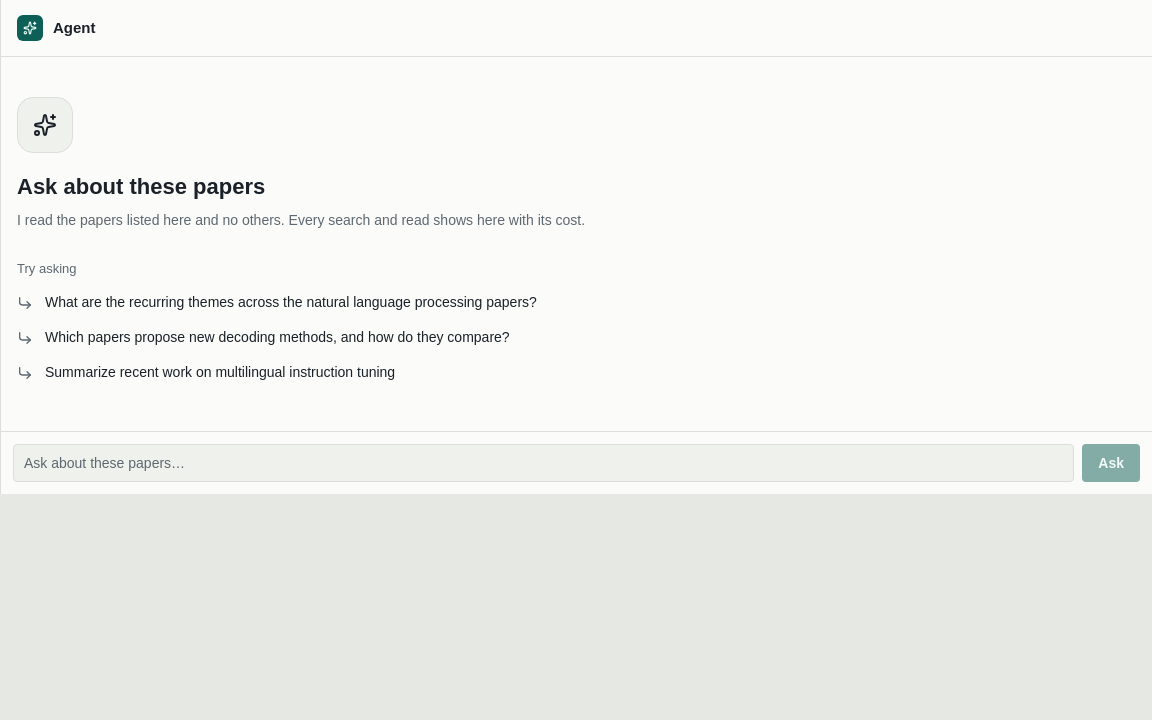
Test: ChatPanel › fills the composer from an example and focuses it, without spending a turn
Click the 1st button.
click(291, 302)  # box x1=9 y1=285 x2=1144 y2=320
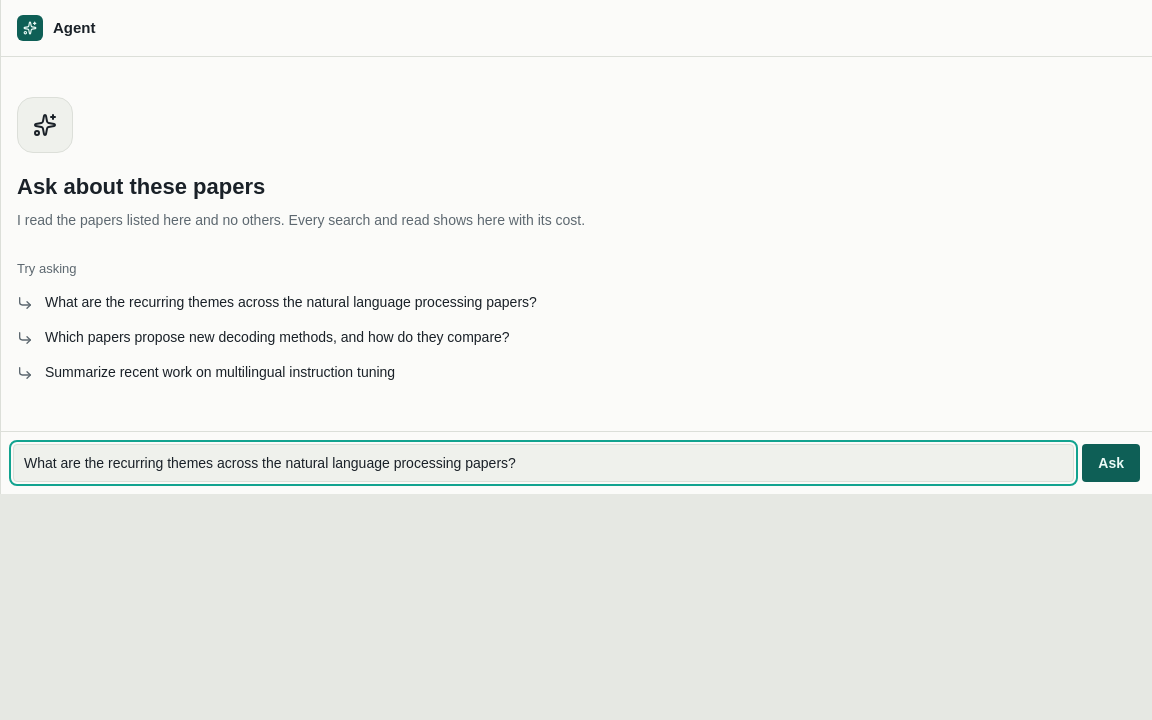
Expected: the field named "question for the agent" holds "What are the recurring themes across the natural language processing papers?", x1=13 y1=444 x2=1074 y2=482
Expected: the button "Ask" is enabled, x1=1082 y1=444 x2=1140 y2=482
